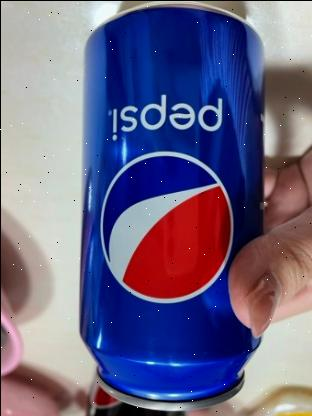Can: (75, 0, 265, 412)
